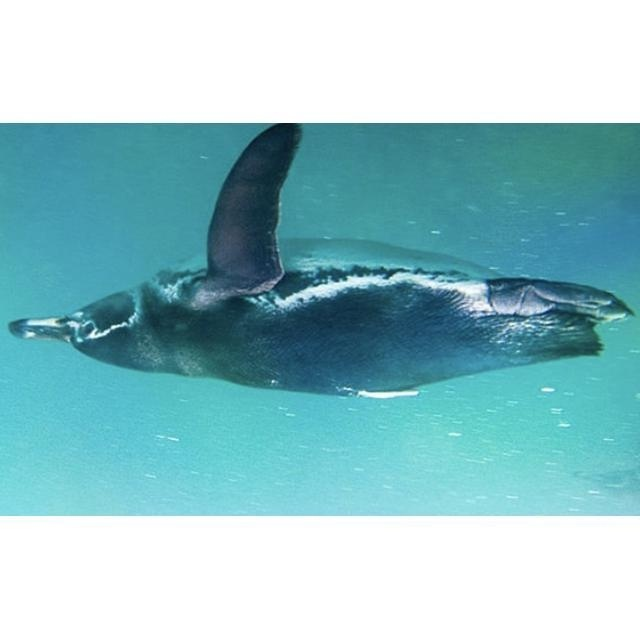penguin: (9, 125, 633, 400)
